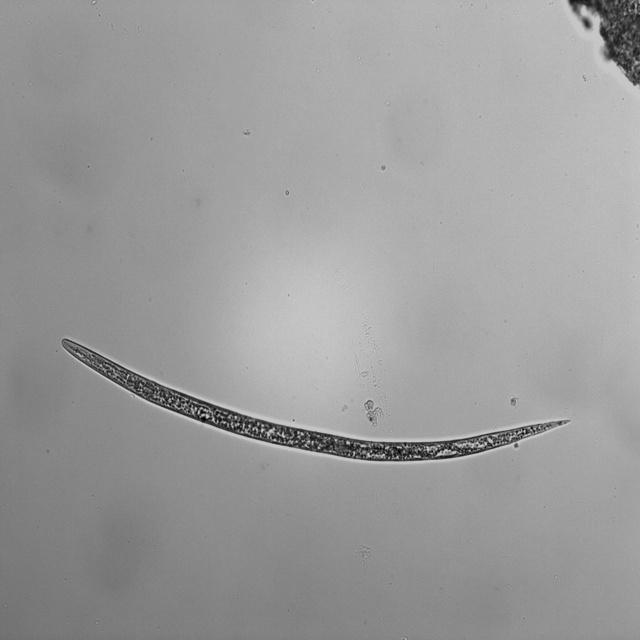Meloidogyne: (53, 333, 576, 467)
